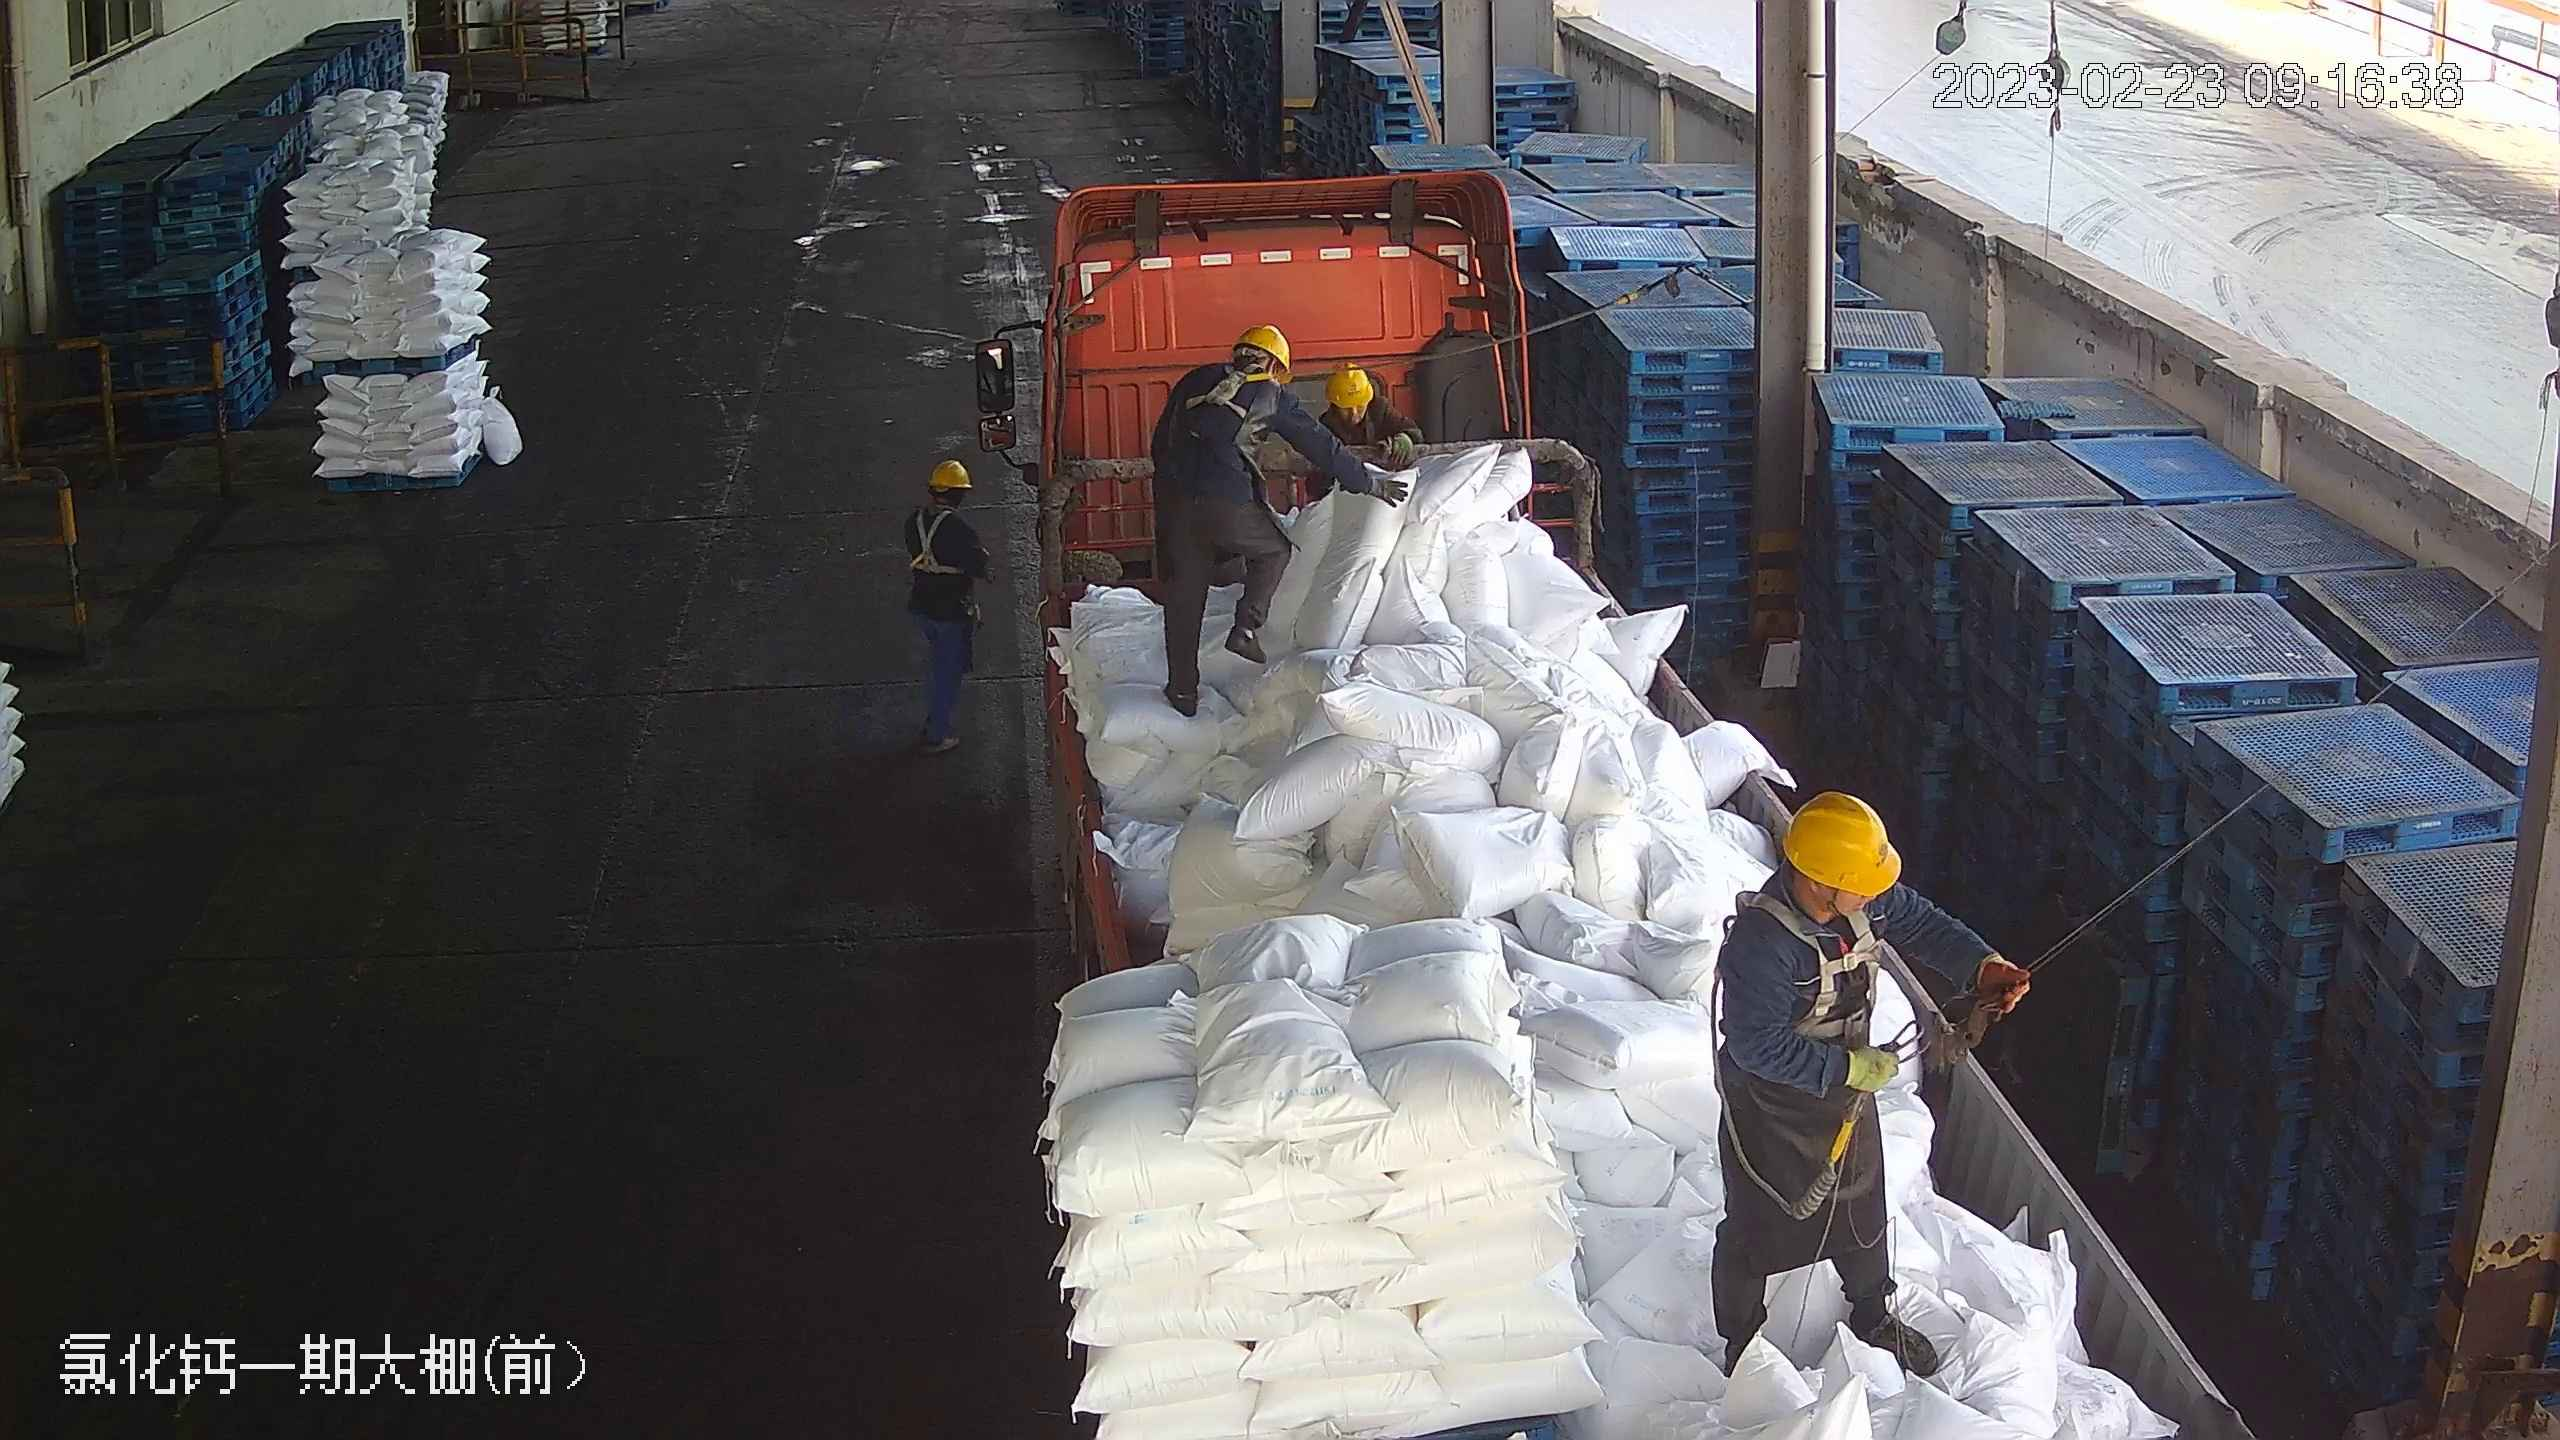belt: (1760, 913, 1886, 1044), (1206, 370, 1290, 435), (902, 507, 967, 575), (1330, 409, 1384, 449)
head: (1731, 796, 1906, 989), (1183, 322, 1301, 419), (904, 460, 982, 554), (1312, 361, 1393, 440)
helmet: (1777, 788, 1907, 895), (1320, 359, 1376, 410), (1234, 321, 1294, 370), (926, 459, 971, 490)
people: (1713, 794, 2029, 1381), (1139, 321, 1389, 714), (896, 459, 992, 758)
truck: (977, 164, 2261, 1432)
